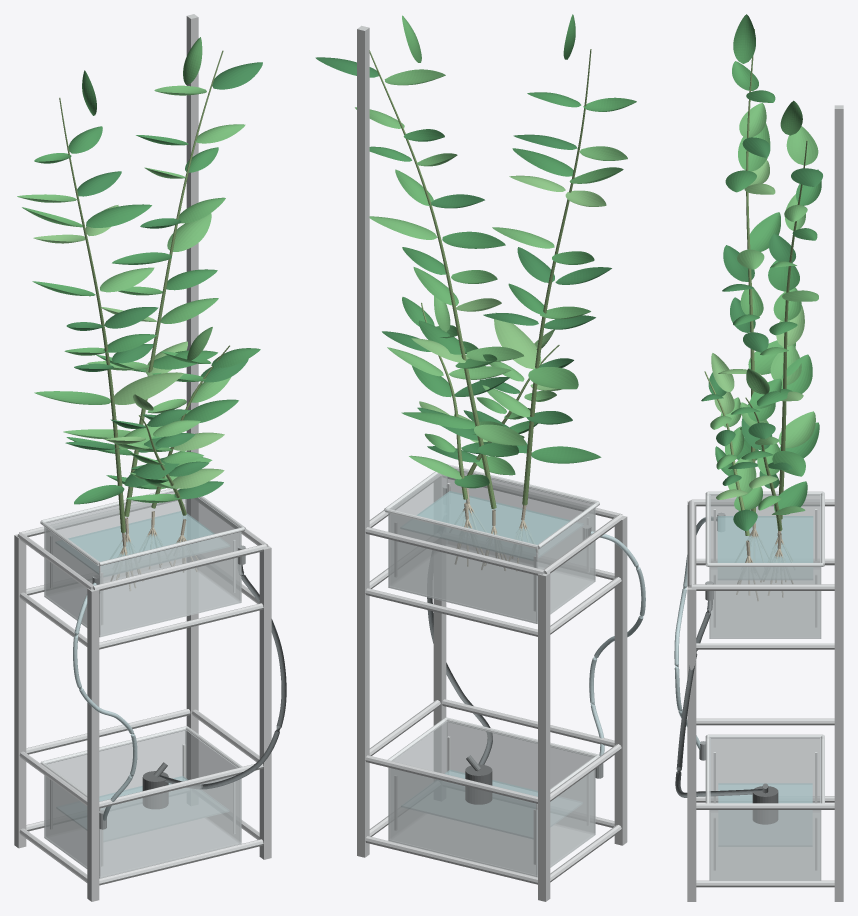
File: paradise-factory-plant.glb
3 views of the same model, side by side, from view 1: azimuth 30°, elevation 25°; view 2: azimuth 150°, elevation 25°; view 3: azimuth 270°, elevation 25° (orthographic). The views are drawn at different scales.
Visible parts, largest first — view 1: plastic, plant, hardware, water; view 2: plastic, plant, hardware, water; view 3: plant, plastic, hardware, water.
Boxes of the visible parts, x1,y1,x2,y2 form: plastic: [40, 488, 245, 878]; plant: [17, 37, 262, 590]; hardware: [14, 14, 286, 901]; water: [55, 511, 230, 841]; plastic: [384, 464, 645, 877]; plant: [315, 14, 636, 570]; hardware: [357, 25, 627, 901]; water: [400, 491, 583, 838]; plant: [701, 14, 822, 600]; plastic: [674, 491, 824, 880]; hardware: [675, 105, 843, 901]; water: [717, 516, 813, 846].
Size of the model in its own units: 0.5374 by 1.52 by 0.2869.
